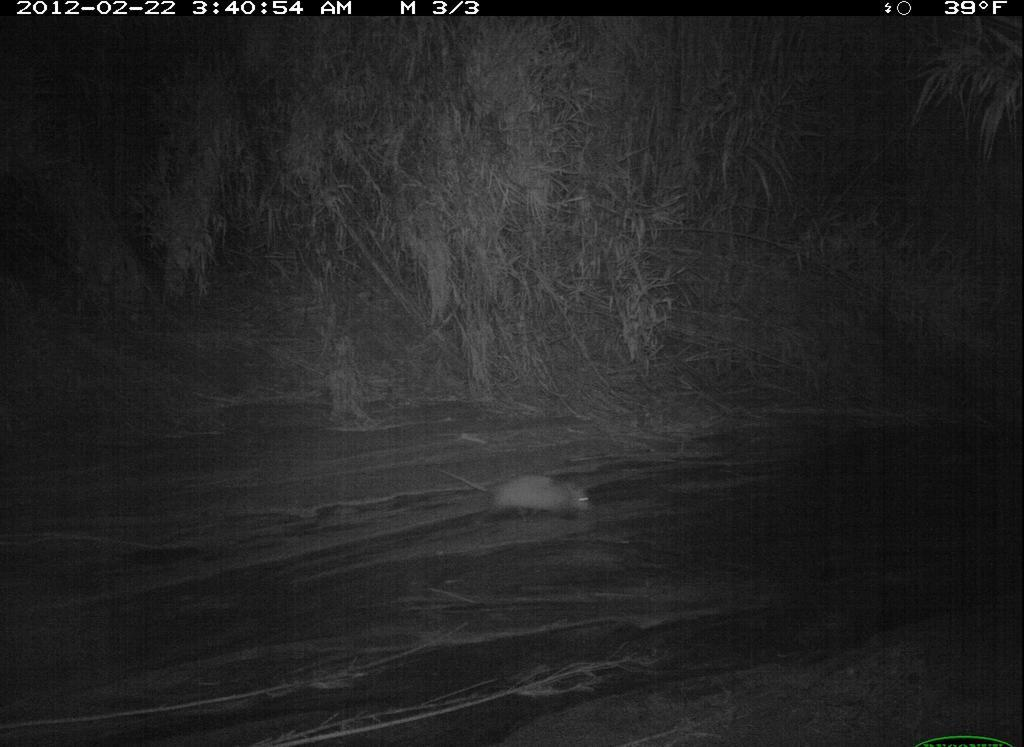opossum: (443, 454, 615, 530)
